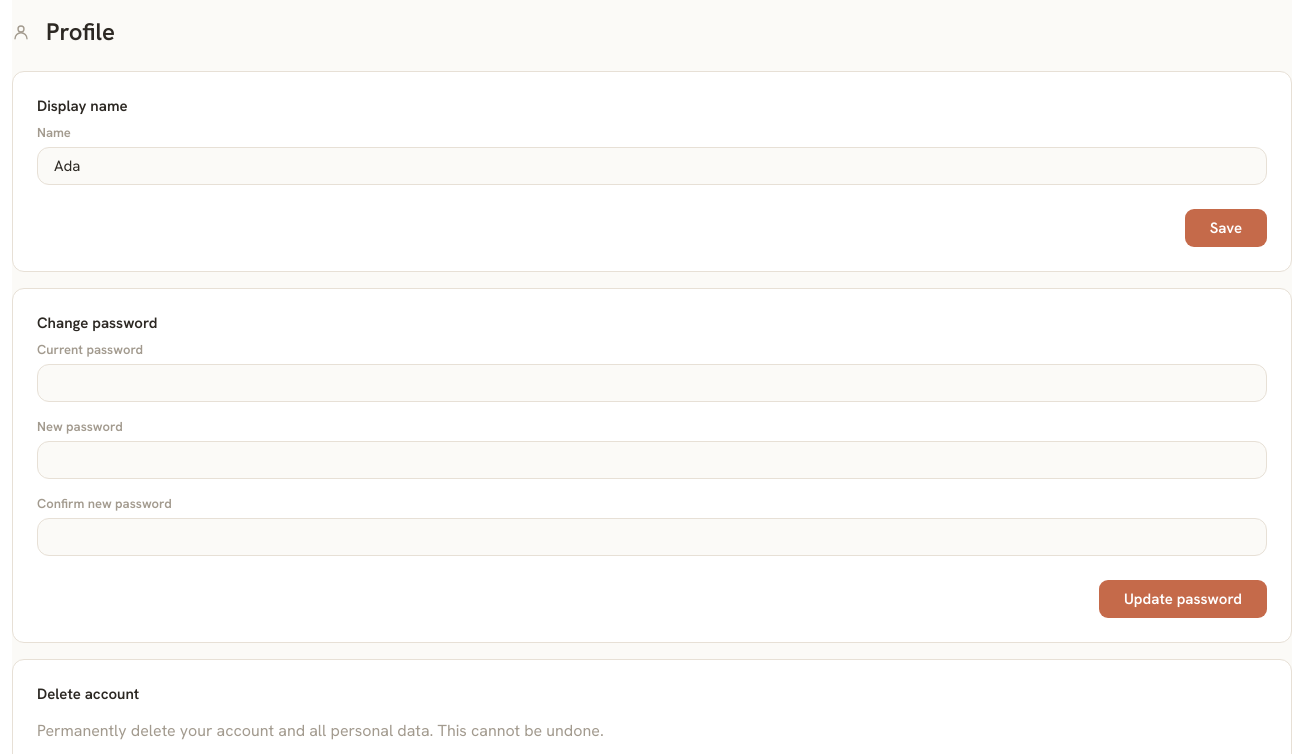
Test: ProfilePage › rejects an empty display name
The image size is (1292, 754).
Clear the field labelled "Name" at (652, 166), box [37,147,1267,185]
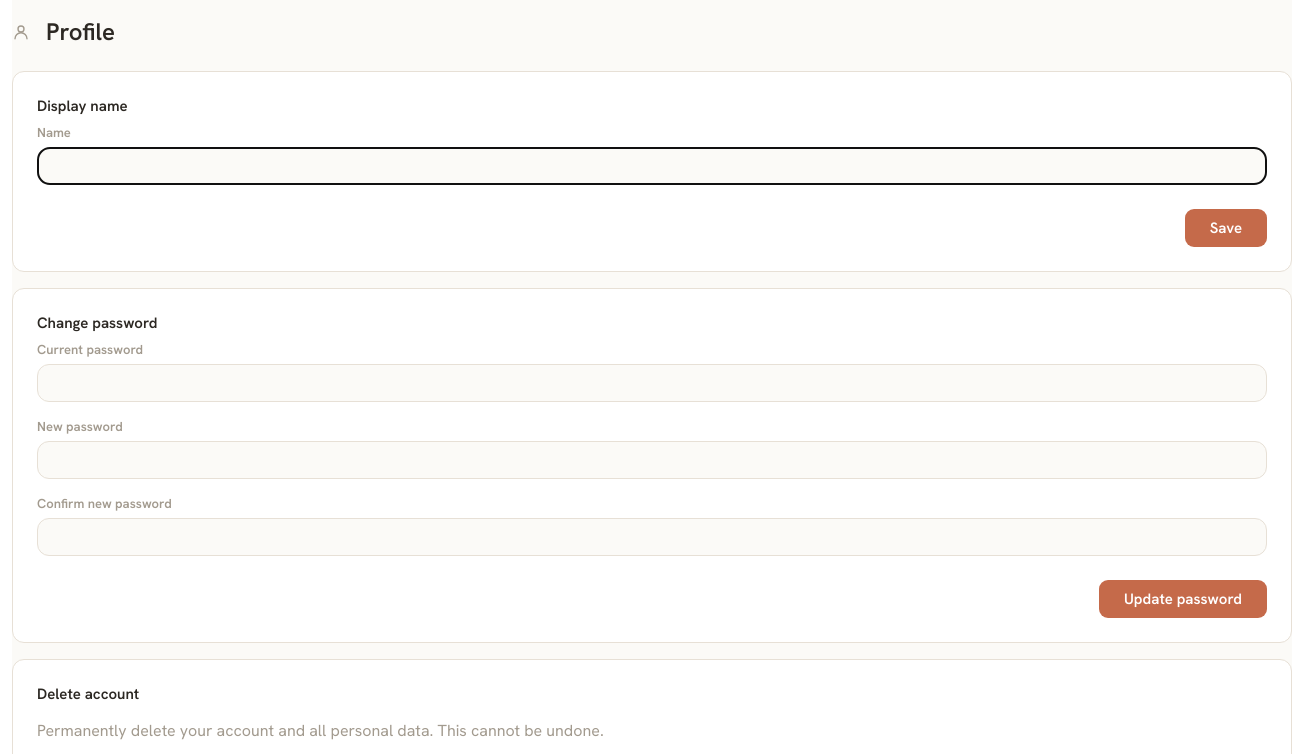
Click the button "Save" at (1226, 228), box [1185,209,1267,247]
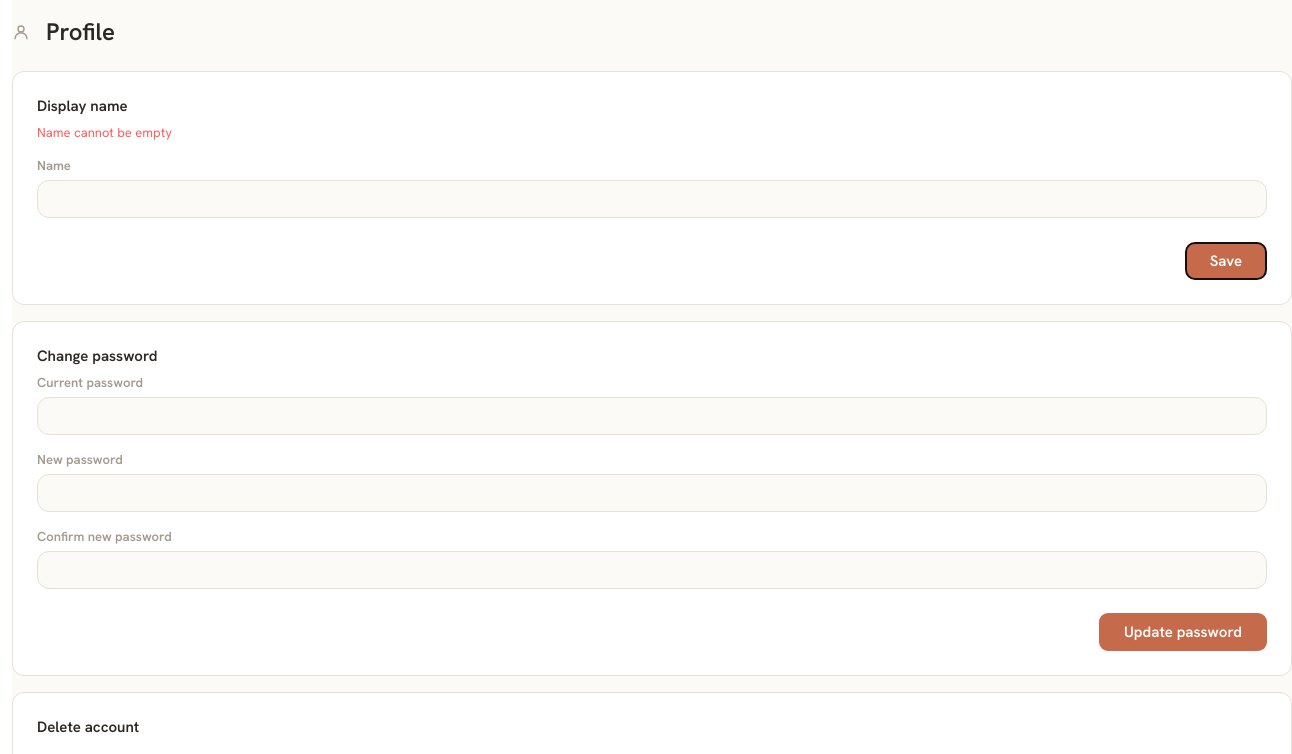
Expected: the text "Name cannot be empty" is shown, [37,124,172,141]
